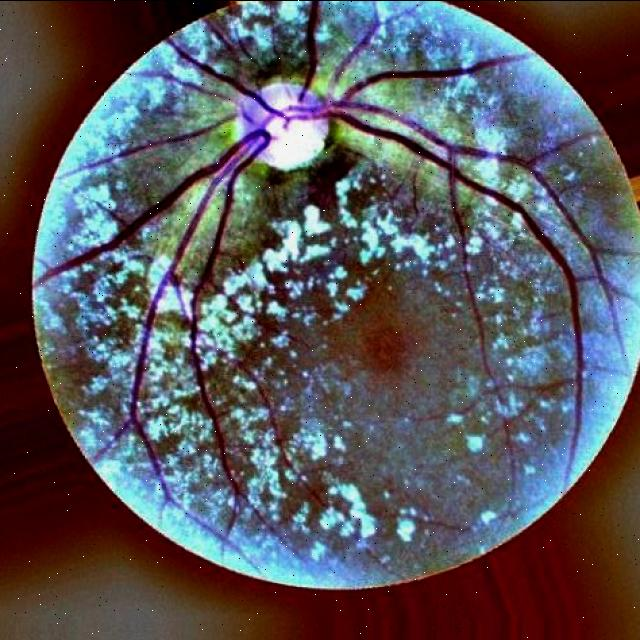Macula: (358, 309, 421, 391)
Nerves: (297, 97, 621, 310), (46, 115, 264, 415)
Optic Disk: (234, 77, 335, 175)
